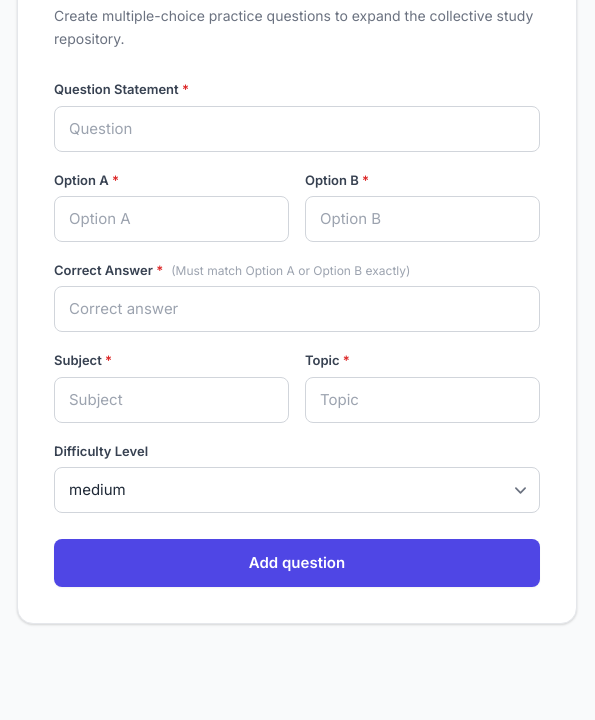
Test case: AddQuestion › shows an error when required fields are missing
The width and height of the screenshot is (595, 720).
(page scrolled)
What coordinates should you click on to do the following:
click the button "Add question"
I would click on:
 (297, 563)
Its box is [54,539,540,587].
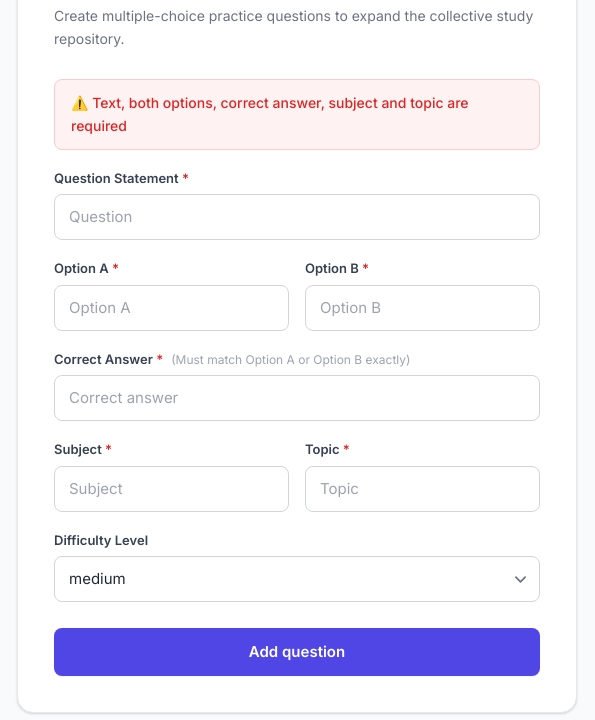
Now the message shows "required", box [71,94,469,134]
